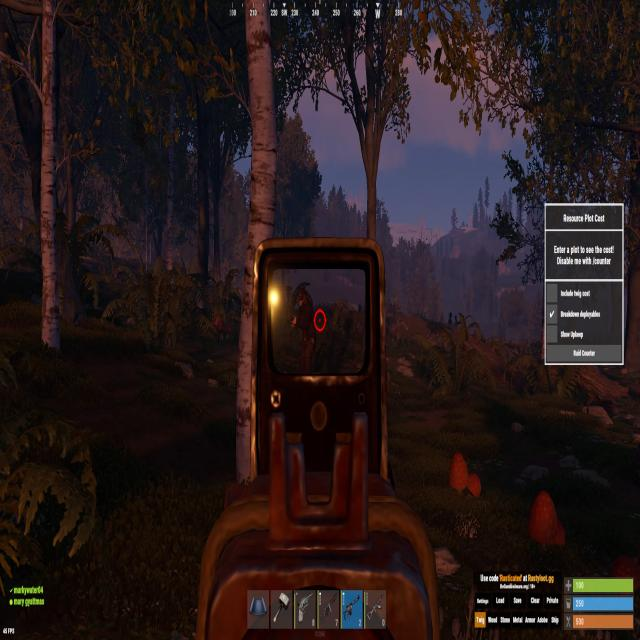Player: (288, 282, 318, 375)
